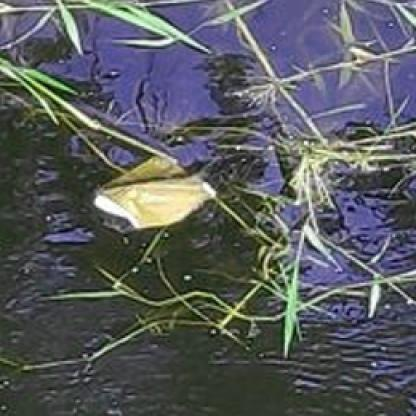Trash: (92, 175, 216, 232)
